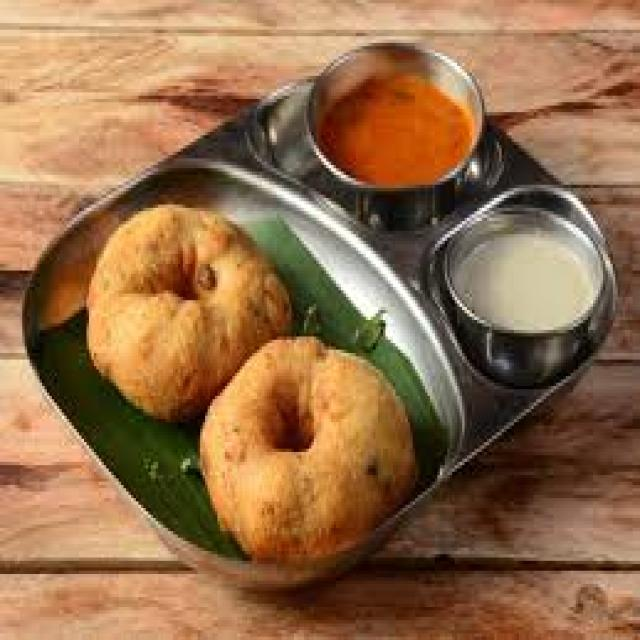MEDU VADA: (200, 336, 415, 577), (89, 208, 289, 419)
